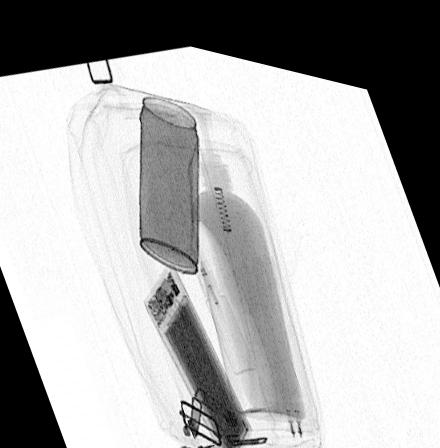Powerbank: (143, 254, 253, 448)
